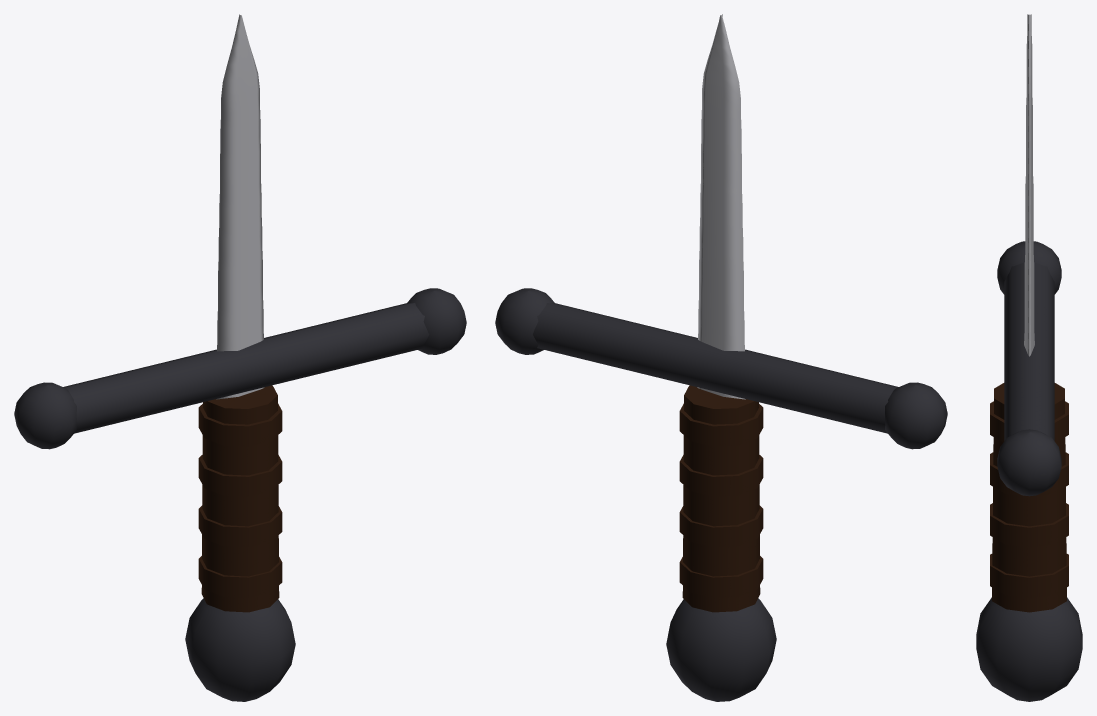
File: SM_Art_Weapon_ThrowingKnife.gltf
3 views of the same model, side by side, from view 1: azimuth 30°, elevation 25°; view 2: azimuth 150°, elevation 25°; view 3: azimuth 270°, elevation 25° (orthographic).
Parts seen in each view (by area): view 1: SM_Art_Weapon_ThrowingKnife; view 2: SM_Art_Weapon_ThrowingKnife; view 3: SM_Art_Weapon_ThrowingKnife.
Boxes of the visible parts, box(x1,y1,x2,y2) form: SM_Art_Weapon_ThrowingKnife: box(14, 14, 466, 701); SM_Art_Weapon_ThrowingKnife: box(495, 14, 947, 701); SM_Art_Weapon_ThrowingKnife: box(976, 14, 1082, 701).
Size of the model in its own units: 0.1841 by 0.27 by 0.0381.
